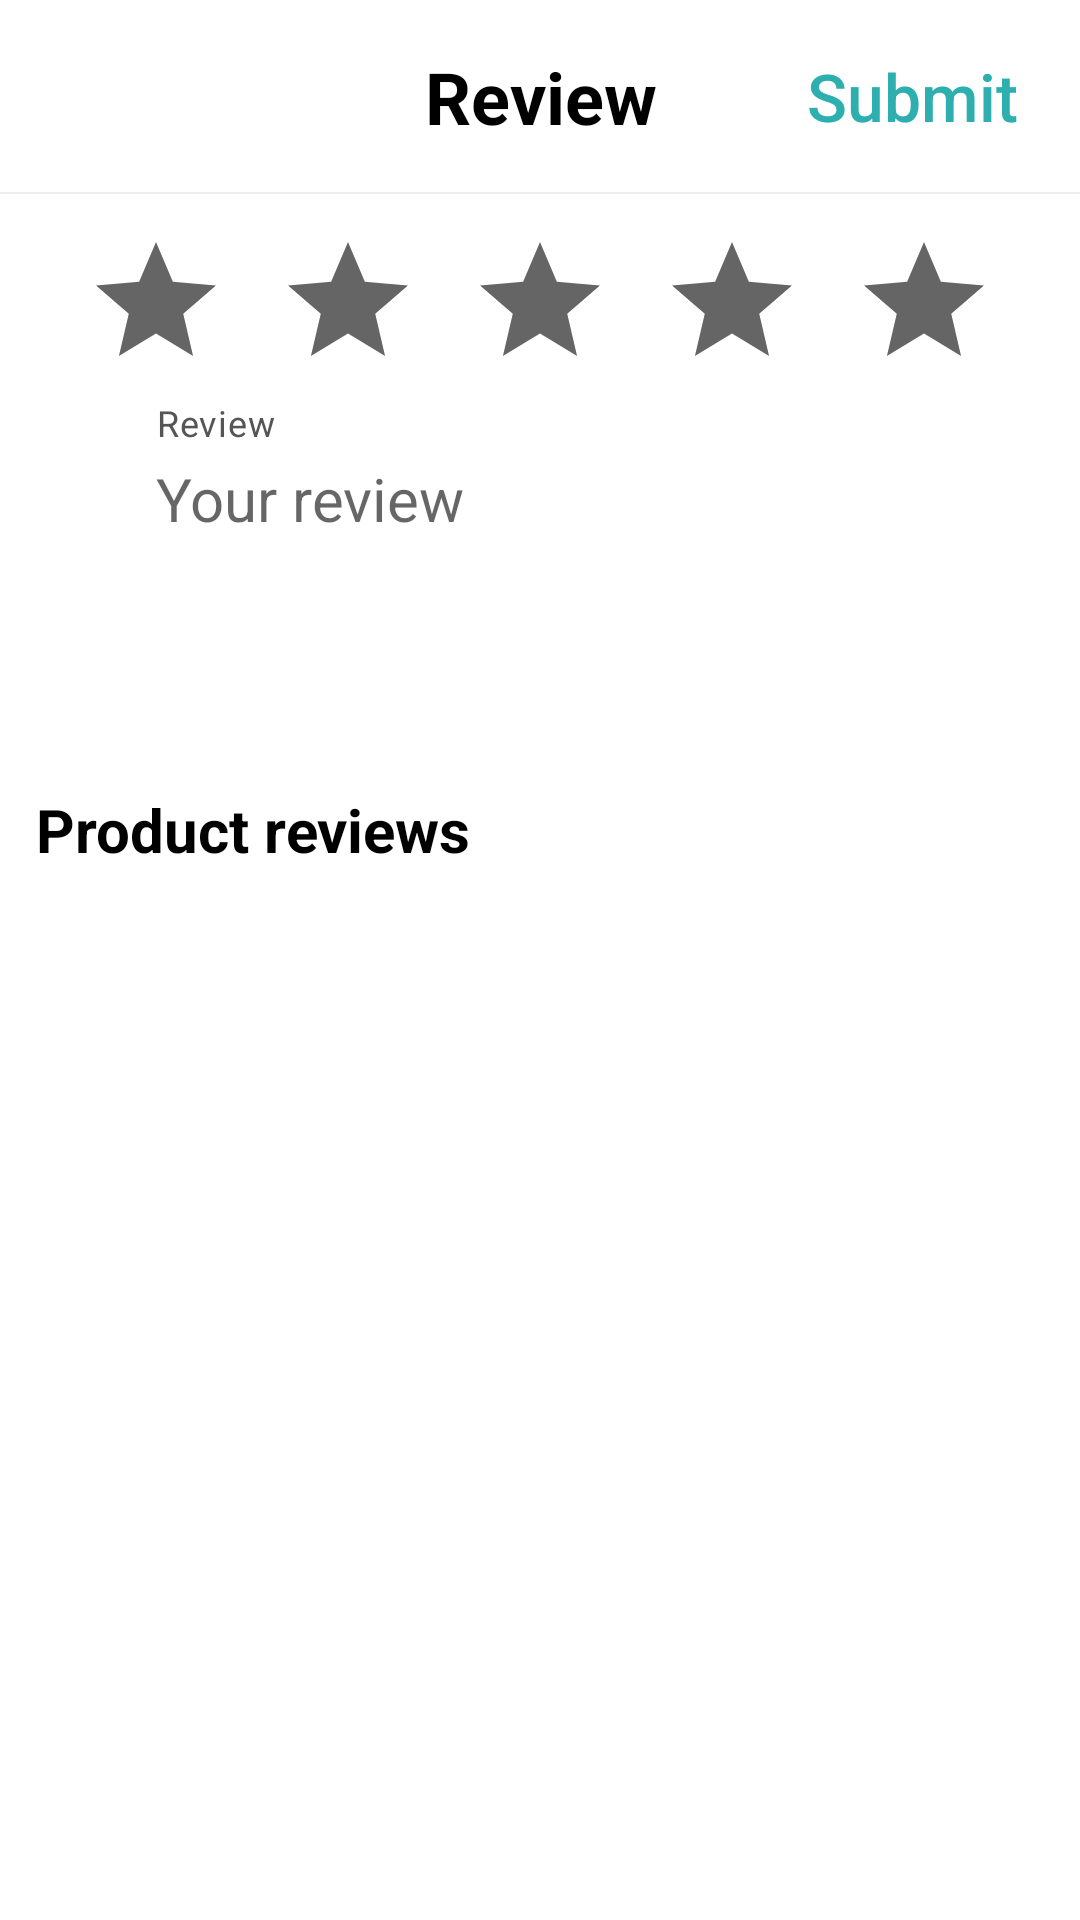

Icons on this 1080×1920 Android screen, each with the point to tap as [x,y]:
star none: [156,299], [348,299], [540,299], [732,299], [924,299]
